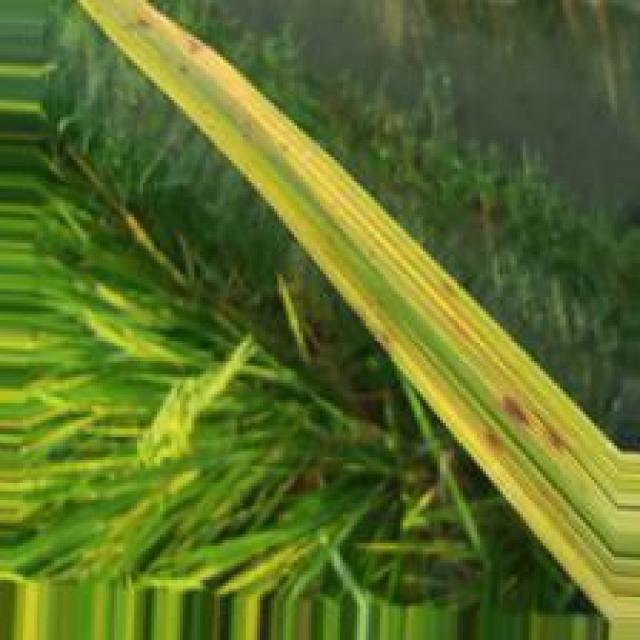Brown_Spot: (493, 389, 533, 429), (472, 425, 509, 459), (539, 424, 565, 458)
